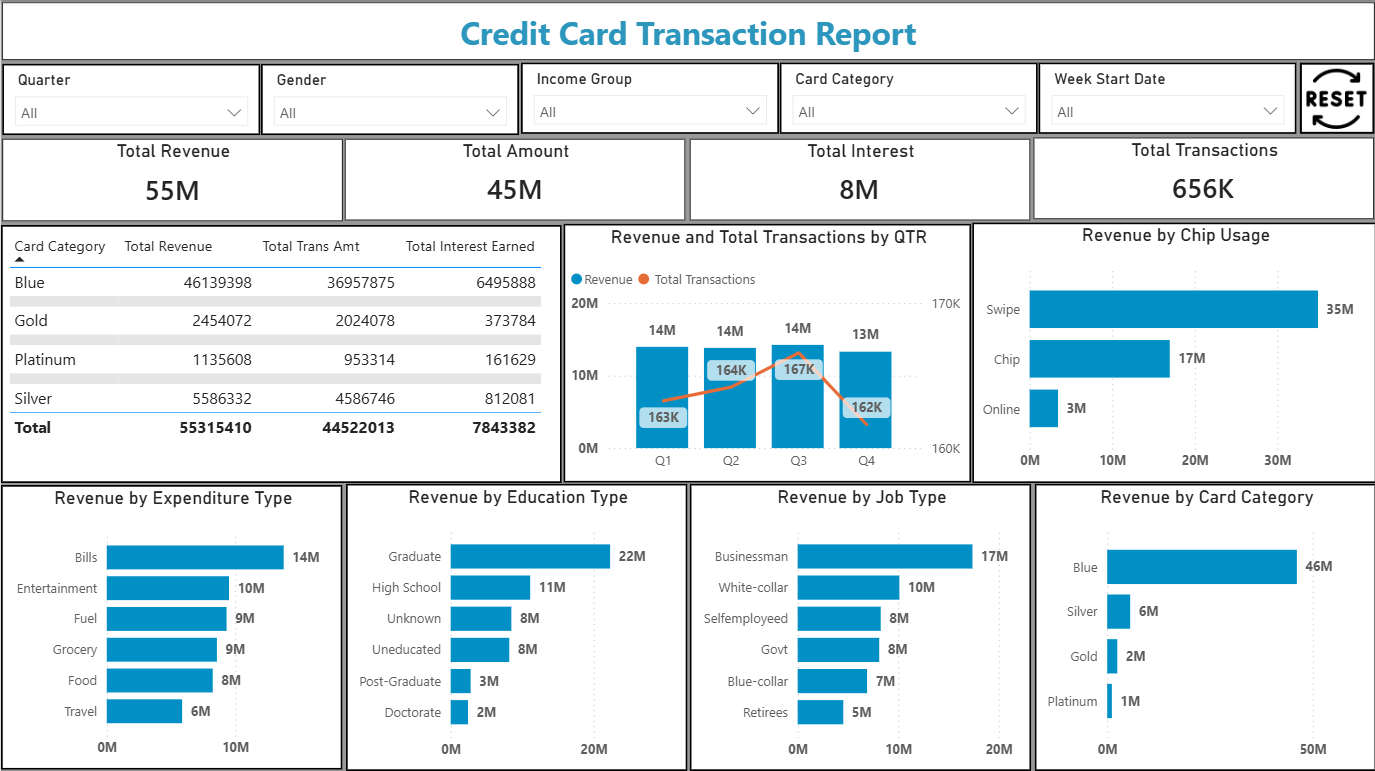

The page's visual inventory and layout, read from the dashboard file:
{"tool":"powerbi","page":{"name":"CC Transaction","canvas":[1280,720],"ordinal":0},"visuals":[{"type":"shape","box":[1.2,2.3,1276.7,53.5],"z":0},{"type":"shape","box":[1207.6,58.2,69.6,66.5],"z":1000,"group":"g1"},{"type":"lineStackedColumnComboChart","title":" Revenue and Total Transactions by QTR","fields":{"Category":["cc_detail.Qtr"],"Y":["Sum(cc_detail.Revenue)"],"Y2":["Sum(cc_detail.Total_Trans_Vol)"]},"box":[523.8,207.9,379,241.1],"z":1000},{"type":"image","box":[1212.8,64.4,59.2,56.1],"z":1500,"group":"g1"},{"type":"barChart","title":"Revenue by Expenditure Type","fields":{"Y":["Sum(cc_detail.Revenue)"],"Category":["cc_detail.Exp_Type"]},"box":[0,451.2,317.4,265.1],"z":2000},{"type":"barChart","title":"Revenue by Education Type","fields":{"Y":["Sum(cc_detail.Revenue)"],"Category":["cust_detail.Education_Level"]},"box":[320.9,450,317.4,267.4],"z":3000},{"type":"barChart","title":"Revenue by Job Type","fields":{"Y":["Sum(cc_detail.Revenue)"],"Category":["cust_detail.Customer_Job"]},"box":[640.7,450,317.4,267.4],"z":4000},{"type":"barChart","title":"Revenue by Card Category","fields":{"Y":["Sum(cc_detail.Revenue)"],"Category":["cc_detail.Card_Category"]},"box":[961.6,450,317.4,267.4],"z":5000},{"type":"barChart","title":"Revenue by Chip Usage","fields":{"Y":["Sum(cc_detail.Revenue)"],"Category":["cc_detail.Use_Chip"]},"box":[903.1,206.8,376.2,242.1],"z":6000},{"type":"tableEx","fields":{"Values":["cc_detail.Card_Category","Sum(cc_detail.Revenue)","Sum(cc_detail.Total_Trans_Amt)","Sum(cc_detail.Interest_Earned)"]},"box":[0,208.9,521.7,240.1],"z":7000},{"type":"cardVisual","title":"Total Revenue","fields":{"Data":["Sum(cc_detail.Revenue)"]},"box":[1.2,129.1,317,76.7],"z":8000},{"type":"cardVisual","title":"Total Amount","fields":{"Data":["Sum(cc_detail.Total_Trans_Amt)"]},"box":[320.1,128.9,317,75.9],"z":9000},{"type":"cardVisual","title":"Total Interest","fields":{"Data":["Sum(cc_detail.Interest_Earned)"]},"box":[640.2,128.9,317,75.9],"z":10000},{"type":"cardVisual","title":"Total Transactions","fields":{"Data":["Sum(cc_detail.Total_Trans_Vol)"]},"box":[960.3,127.8,317,75.9],"z":11000},{"type":"slicer","fields":{"Values":["cc_detail.Week_Start_Date"]},"box":[965.5,58.2,240.1,66.5],"z":12000},{"type":"slicer","fields":{"Values":["cust_detail.Gender"]},"box":[242.1,59.2,240.1,66.5],"z":13000},{"type":"slicer","fields":{"Values":["cc_detail.Qtr"]},"box":[1,59.2,240.1,66.5],"z":14000},{"type":"slicer","fields":{"Values":["cc_detail.Card_Category"]},"box":[724.2,58.7,240.3,66.3],"z":15000},{"type":"slicer","fields":{"Values":["cust_detail.IncomeGroup"]},"box":[483.3,58.2,240.1,66.5],"z":16000},{"type":"group","id":"g1","title":"Group 1","box":[1207.6,58.2,69.6,66.5],"z":17000}]}

Visuals, with their boxes in screenshot pixels (x1, y1, x2, y2), scaled from the page's 1280x720 canvas onto the 1375x771 screenshot:
shape: 1:2:1373:60
shape: 1297:62:1372:134
" Revenue and Total Transactions by QTR" lineStackedColumnComboChart: 563:223:970:481
image: 1303:69:1366:129
"Revenue by Expenditure Type" barChart: 0:483:341:767
"Revenue by Education Type" barChart: 345:482:686:768
"Revenue by Job Type" barChart: 688:482:1029:768
"Revenue by Card Category" barChart: 1033:482:1374:768
"Revenue by Chip Usage" barChart: 970:221:1374:481
tableEx - cc_detail.Card_Category x Sum(cc_detail.Revenue): 0:224:560:481
"Total Revenue" cardVisual: 1:138:342:220
"Total Amount" cardVisual: 344:138:684:219
"Total Interest" cardVisual: 688:138:1028:219
"Total Transactions" cardVisual: 1032:137:1372:218
slicer - cc_detail.Week_Start_Date: 1037:62:1295:134
slicer - cust_detail.Gender: 260:63:518:135
slicer - cc_detail.Qtr: 1:63:259:135
slicer - cc_detail.Card_Category: 778:63:1036:134
slicer - cust_detail.IncomeGroup: 519:62:777:134
"Group 1" group: 1297:62:1372:134
